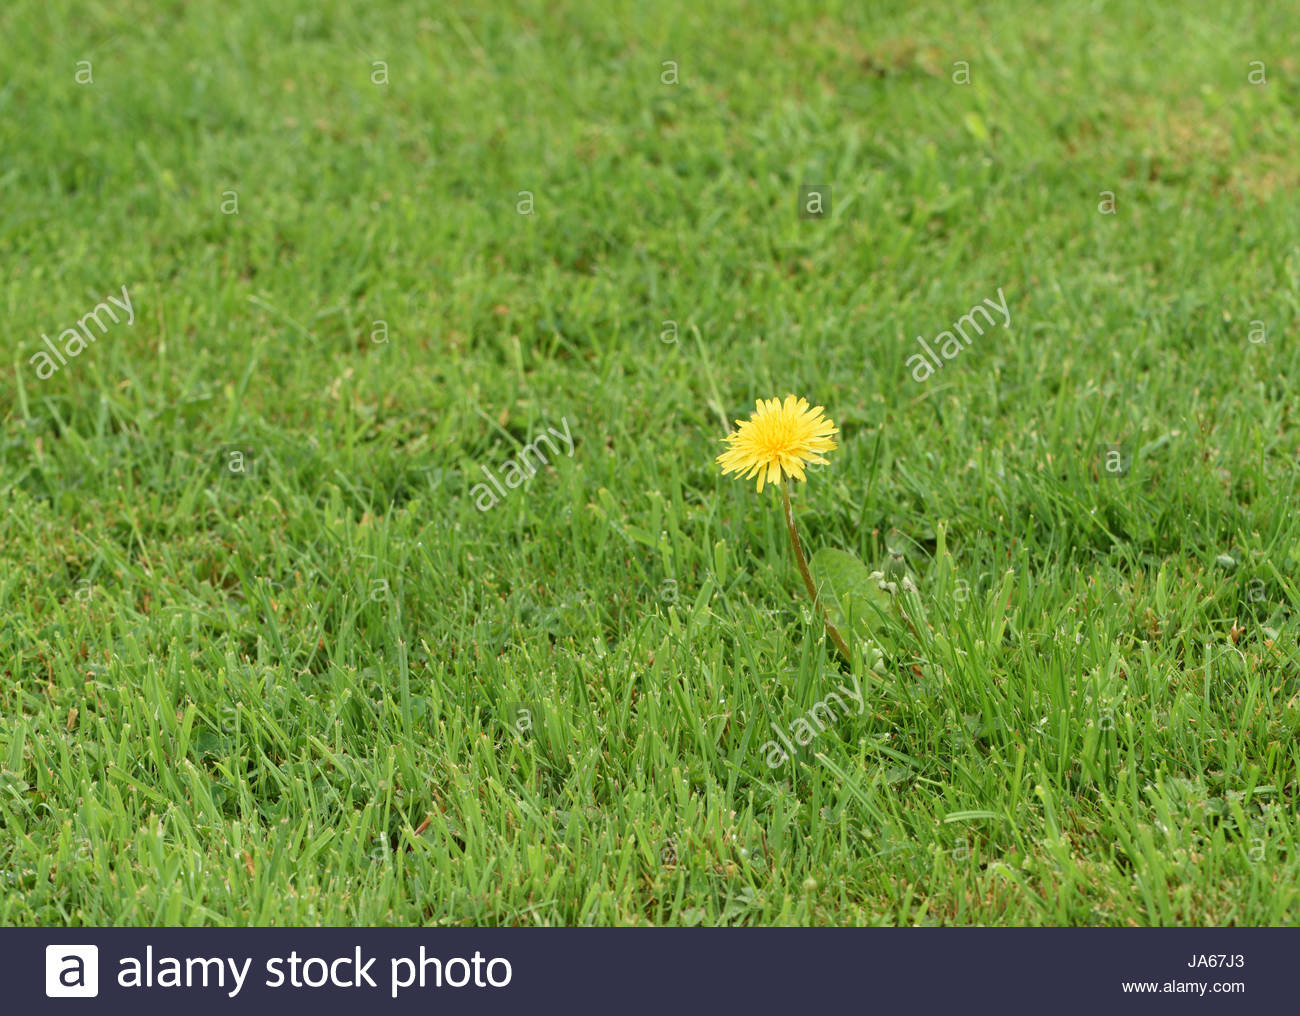dandelion: (716, 407, 837, 479)
